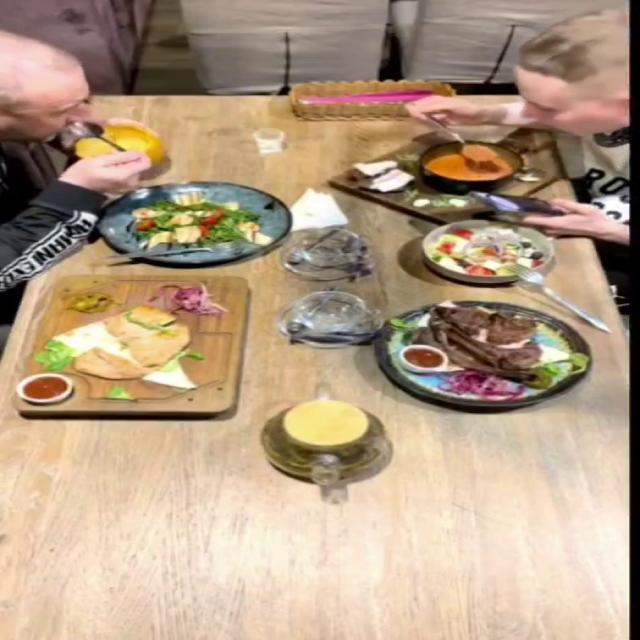alcohol: (242, 114, 320, 162)
meat: (371, 301, 594, 408)
salat: (92, 181, 288, 265), (420, 219, 556, 284)
soup: (325, 129, 569, 225), (73, 121, 166, 166)
tea: (283, 399, 369, 446)
